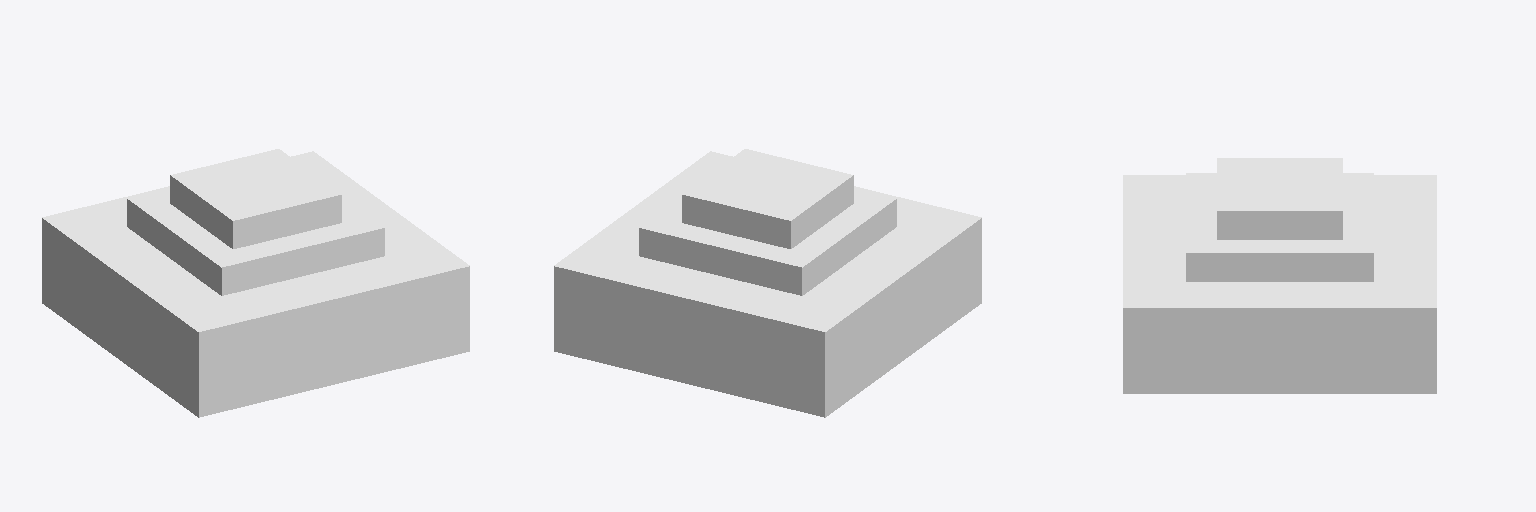
Rendered from buttonTable.obj.
The picture shows the model from 3 angles: view 1: azimuth 30°, elevation 25°; view 2: azimuth 150°, elevation 25°; view 3: azimuth 270°, elevation 25°; orthographic projection.
Visible parts, largest first — view 1: object 1; view 2: object 1; view 3: object 1.
Part boxes in pixels (x1,y1,x2,y2): object 1: (42, 149, 469, 417); object 1: (554, 149, 981, 417); object 1: (1123, 158, 1436, 393).
Size of the model in its own units: 1 by 0.5 by 1.